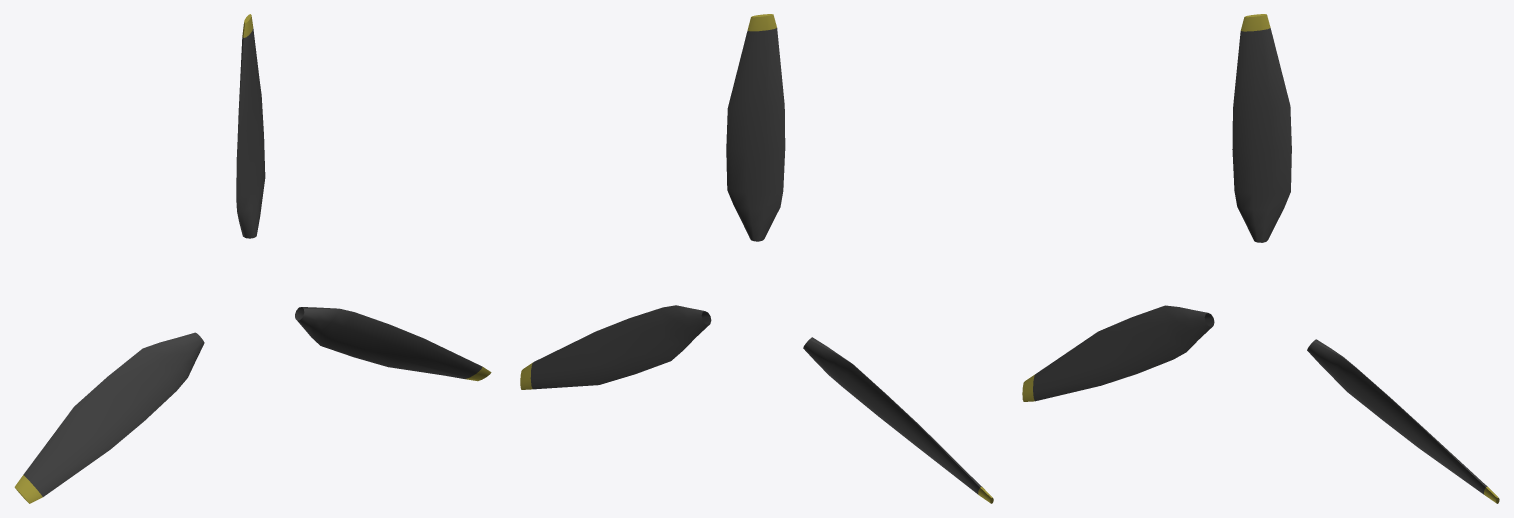
The model's file is Spitfire_propeller_slow.glb.
The picture shows the model from 3 angles, left to right: view 1: azimuth 30°, elevation 25°; view 2: azimuth 150°, elevation 25°; view 3: azimuth 330°, elevation 25°; orthographic projection. The views are drawn at different scales.
Visible parts, largest first — view 1: Cylinder.009; view 2: Cylinder.009; view 3: Cylinder.009.
Boxes of the visible parts, x1=… form: Cylinder.009: x1=14, y1=14, x2=491, y2=503; Cylinder.009: x1=520, y1=14, x2=993, y2=503; Cylinder.009: x1=1022, y1=14, x2=1499, y2=503.
Size of the model in its own units: 2.56 by 2.23 by 0.1557.
